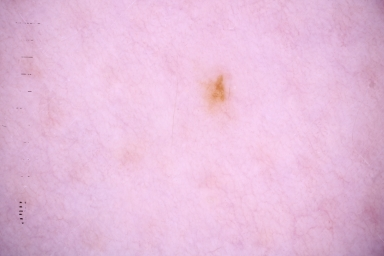nevus: (206, 69, 234, 106)
